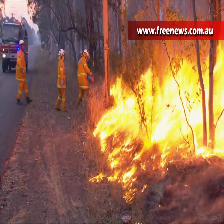fire_h: (88, 41, 224, 202), (122, 163, 137, 202)
fire_l: (89, 172, 106, 182), (107, 169, 121, 181), (139, 183, 147, 192)
